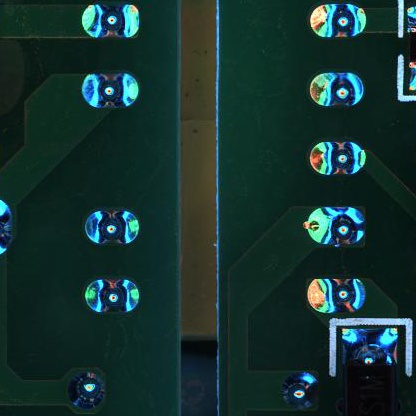spot: (303, 206, 367, 248), (83, 208, 142, 245), (306, 278, 368, 313), (83, 278, 141, 315), (309, 3, 369, 38), (309, 71, 364, 109), (82, 72, 140, 108), (310, 141, 369, 175), (80, 3, 138, 37), (281, 371, 320, 412), (68, 372, 107, 411)
